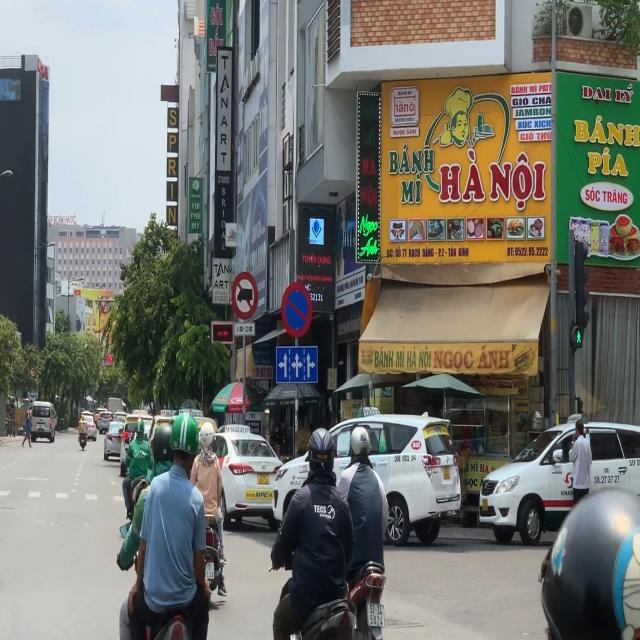Cam con lai: (231, 272, 258, 320)
Cam do: (281, 282, 312, 338)
